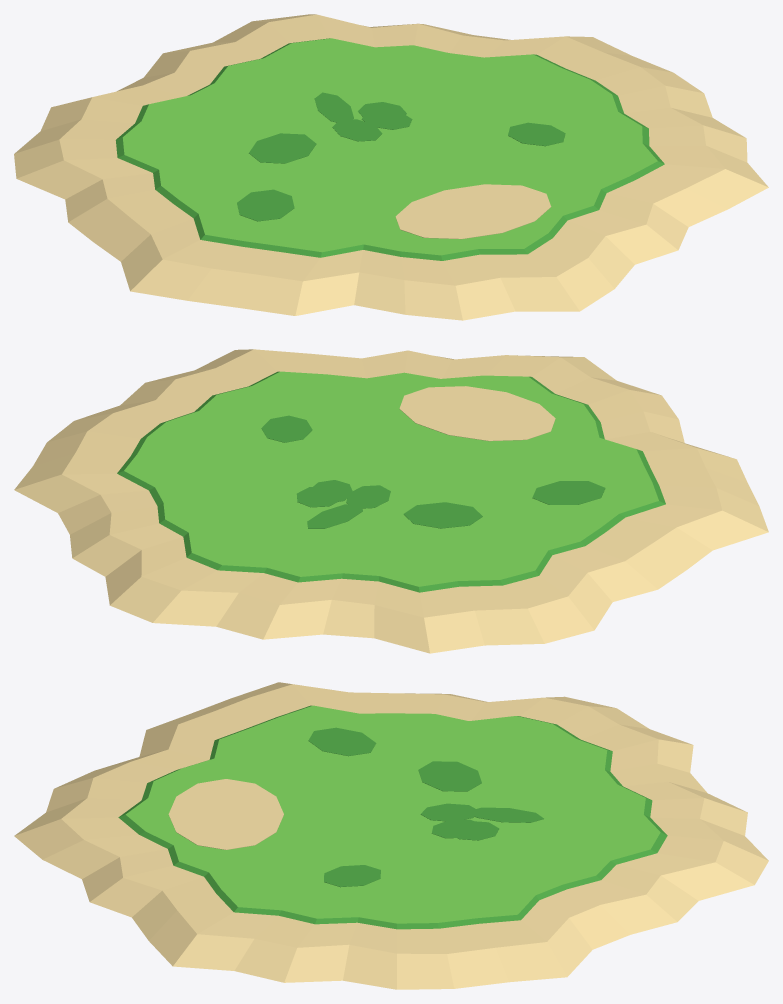
File: island_base.glb
The picture shows the model from 3 angles, top to bottom: view 1: azimuth 30°, elevation 25°; view 2: azimuth 150°, elevation 25°; view 3: azimuth 270°, elevation 25°; orthographic projection.
Visible parts, largest first — view 1: island_base; view 2: island_base; view 3: island_base.
Boxes of the visible parts, x1=… form: island_base: x1=14, y1=14, x2=768, y2=320; island_base: x1=14, y1=349, x2=768, y2=653; island_base: x1=14, y1=682, x2=768, y2=989.
Size of the model in its own units: 27.71 by 0.912 by 28.74.
